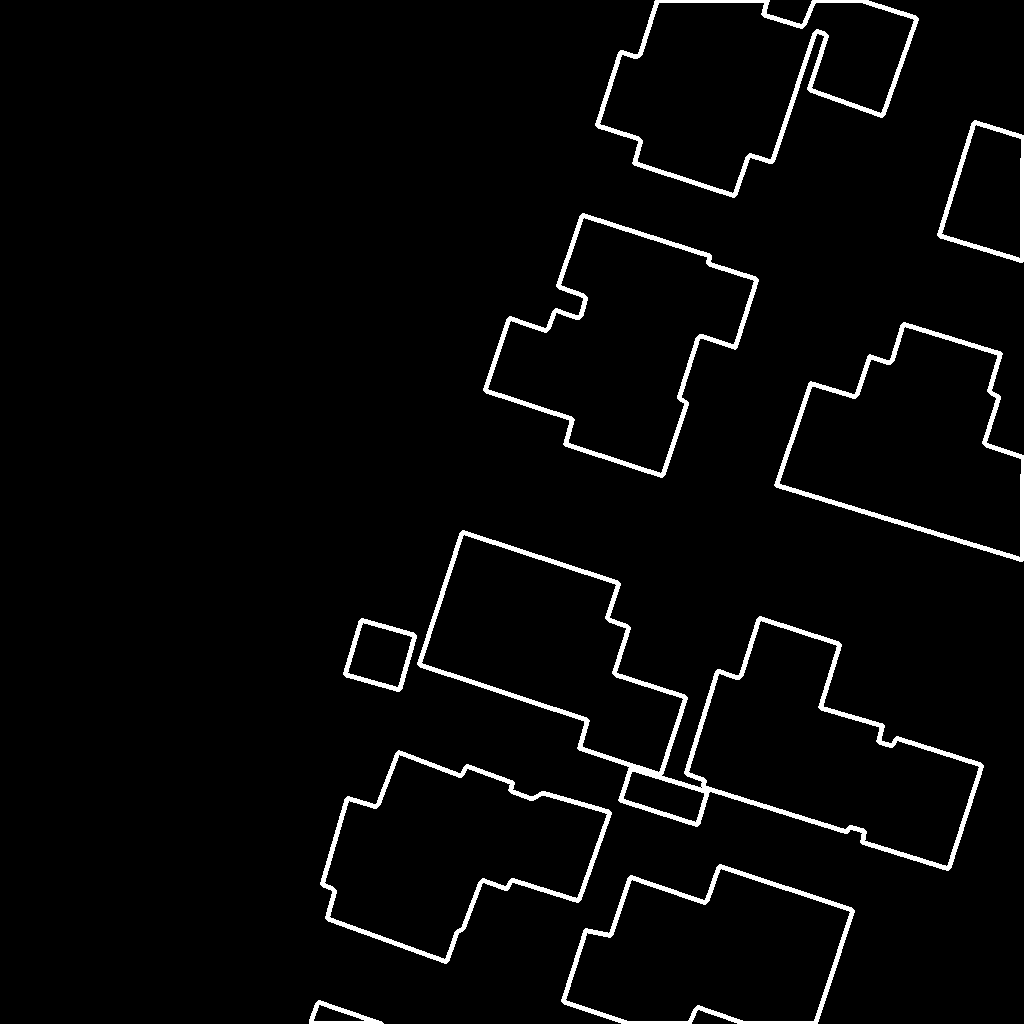building: (686, 618, 983, 870), (485, 215, 758, 477), (419, 532, 687, 776), (597, 0, 918, 197), (322, 752, 611, 963), (776, 324, 1024, 561), (563, 866, 854, 1024), (939, 122, 1024, 262), (620, 768, 709, 826), (345, 620, 416, 691), (311, 1002, 383, 1024)
